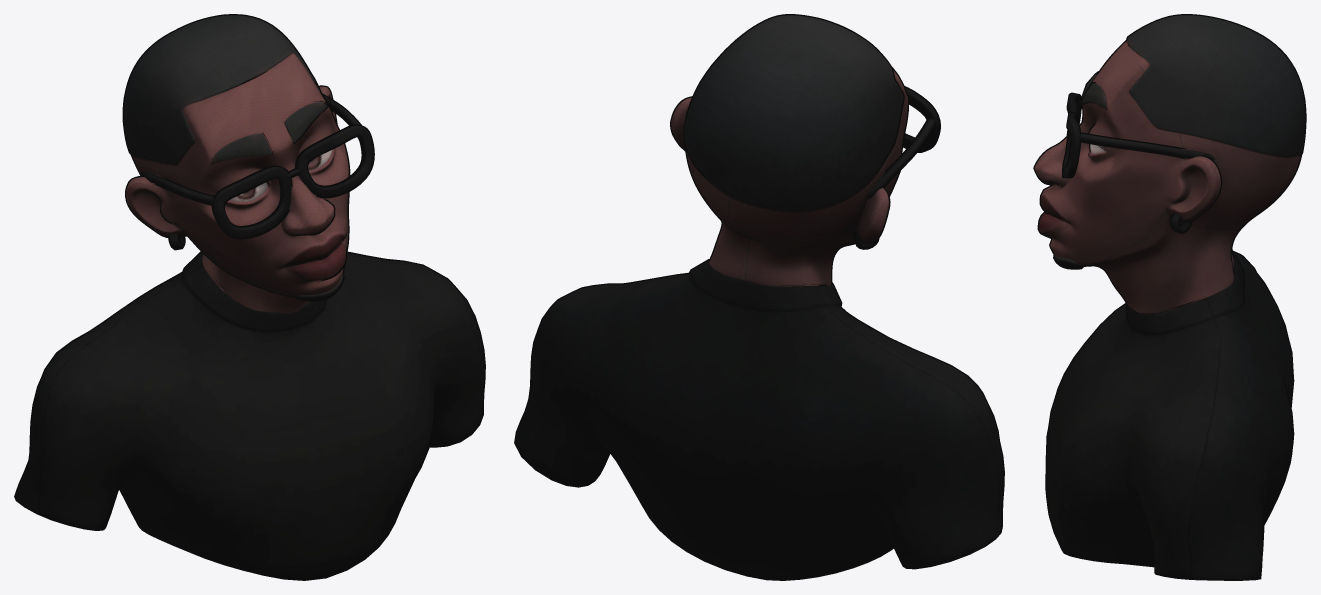
The model's file is SM_PortraitWeb_Outline-v1.glb.
3 views of the same model, side by side, from view 1: azimuth 30°, elevation 25°; view 2: azimuth 150°, elevation 25°; view 3: azimuth 270°, elevation 25° (orthographic). The views are drawn at different scales.
Visible parts, largest first — view 1: outline; view 2: outline; view 3: outline.
Boxes of the visible parts, x1,y1,x2,y2 form: outline: [14, 14, 485, 580]; outline: [514, 14, 1004, 580]; outline: [1033, 14, 1306, 580].
Size of the model in its own units: 0.5747 by 0.6305 by 0.3034.
2 materials, 1 textured.
